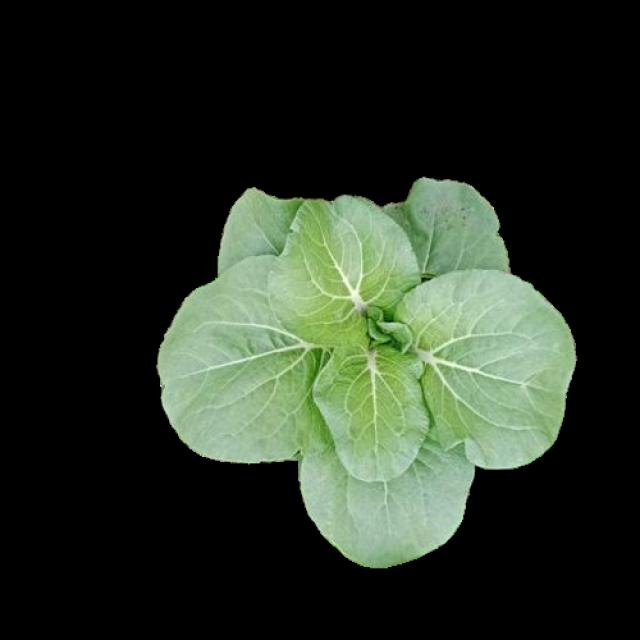healthy: (160, 177, 588, 560)
mature: (163, 179, 590, 563)
